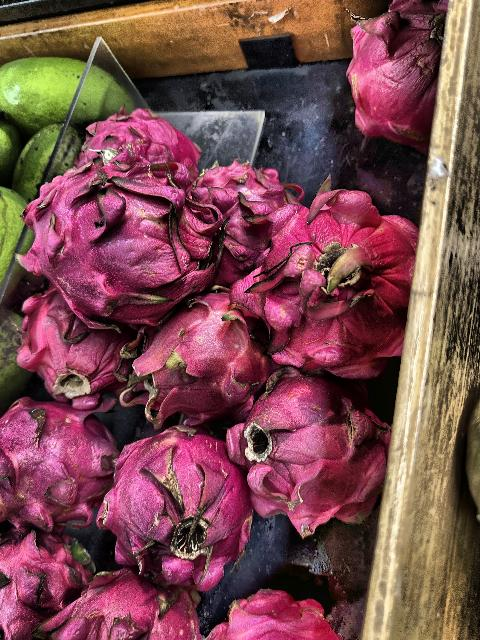buah-naga-matang: (232, 188, 420, 372), (21, 156, 222, 320), (229, 372, 391, 538), (99, 425, 256, 585), (139, 282, 271, 418), (0, 388, 118, 532), (340, 0, 446, 152), (12, 278, 133, 402), (44, 564, 204, 640), (0, 520, 96, 640), (194, 158, 276, 258), (208, 584, 338, 640), (75, 112, 199, 168)
